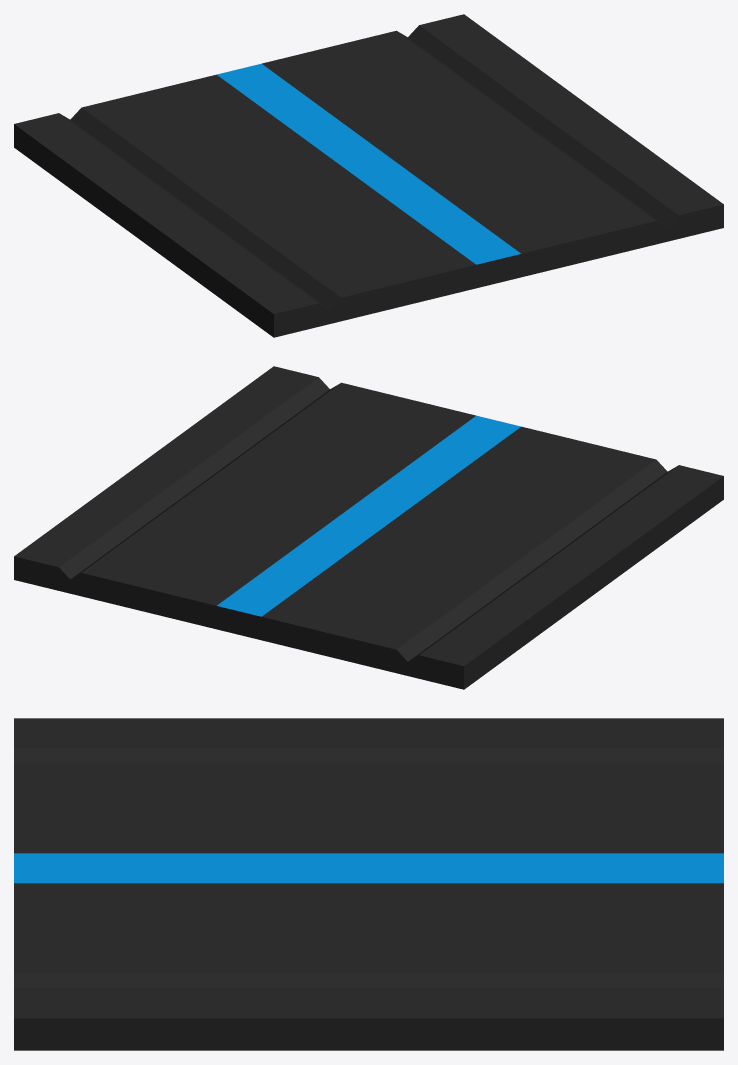
File: Straight Floor.fbx
3 renders of one model, top to bottom at view 1: azimuth 30°, elevation 25°; view 2: azimuth 150°, elevation 25°; view 3: azimuth 270°, elevation 25°, orthographic. The views are drawn at different scales.
Parts seen in each view (by area): view 1: Straight Flooring.003; view 2: Straight Flooring.003; view 3: Straight Flooring.003.
Part boxes in pixels (<box>): Straight Flooring.003: <box>14,14,723,337</box>; Straight Flooring.003: <box>14,366,723,689</box>; Straight Flooring.003: <box>14,718,723,1050</box>.
Size of the model in its own units: 5 by 0.25 by 5.
